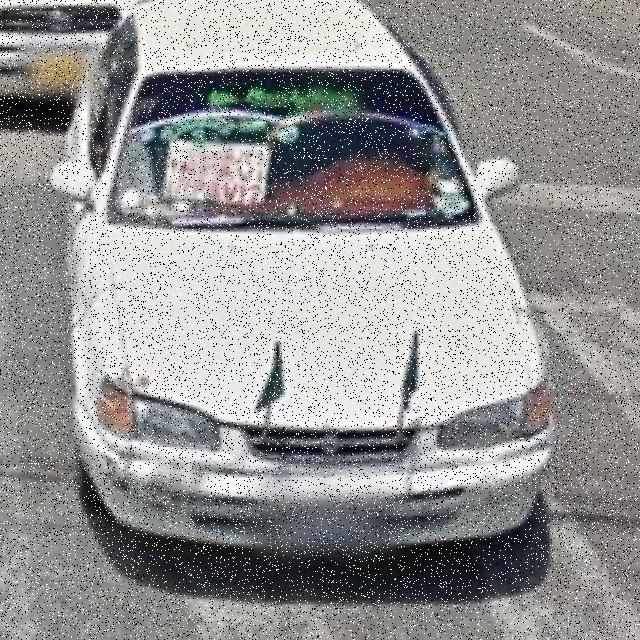cars: (52, 1, 563, 562)
